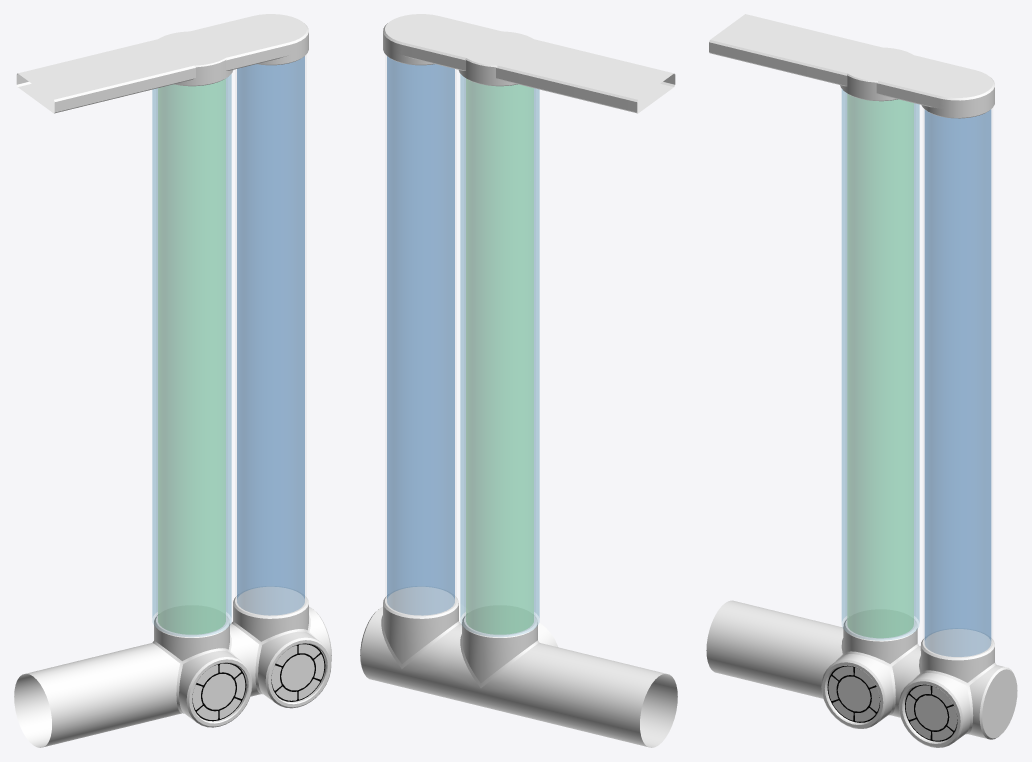
The model's file is Resources.glb.
The picture shows the model from 3 angles, left to right: view 1: azimuth 30°, elevation 25°; view 2: azimuth 150°, elevation 25°; view 3: azimuth 330°, elevation 25°; orthographic projection. The views are drawn at different scales.
Parts seen in each view (by area): view 1: ShipResources Shield, ShipResources Mana, ShipResources Health, ShipResources Health Frame B, ShipResources Frame T, ShipResources Health Frame, ShipResources Mana LED, ShipResources Health LED; view 2: ShipResources Shield, ShipResources Mana, ShipResources Health, ShipResources Health Frame B, ShipResources Frame T, ShipResources Health Frame; view 3: ShipResources Shield, ShipResources Mana, ShipResources Health, ShipResources Health Frame B, ShipResources Frame T, ShipResources Health LED, ShipResources Mana LED, ShipResources Health Frame, ShipResources Mana Frame.
Part boxes in pixels (left/top/right/bottom): ShipResources Shield: left=152, top=74, right=231, bottom=636; ShipResources Mana: left=237, top=56, right=304, bottom=615; ShipResources Health: left=158, top=79, right=225, bottom=633; ShipResources Health Frame B: left=14, top=586, right=331, bottom=747; ShipResources Frame T: left=16, top=14, right=308, bottom=113; ShipResources Health Frame: left=152, top=31, right=233, bottom=86; ShipResources Mana LED: left=271, top=644, right=324, bottom=700; ShipResources Health LED: left=192, top=663, right=245, bottom=719; ShipResources Shield: left=460, top=74, right=539, bottom=636; ShipResources Mana: left=387, top=56, right=454, bottom=615; ShipResources Health: left=466, top=79, right=533, bottom=633; ShipResources Health Frame B: left=360, top=586, right=677, bottom=747; ShipResources Frame T: left=383, top=14, right=675, bottom=113; ShipResources Health Frame: left=458, top=31, right=540, bottom=86; ShipResources Shield: left=842, top=89, right=919, bottom=639; ShipResources Mana: left=925, top=110, right=990, bottom=656; ShipResources Health: left=848, top=95, right=913, bottom=637; ShipResources Health Frame B: left=706, top=600, right=1017, bottom=747; ShipResources Frame T: left=709, top=14, right=994, bottom=110; ShipResources Health LED: left=828, top=666, right=879, bottom=721; ShipResources Mana LED: left=905, top=685, right=957, bottom=740; ShipResources Health Frame: left=840, top=47, right=919, bottom=101; ShipResources Mana Frame: left=921, top=93, right=994, bottom=118.
Bounding box in the file's own units: 0.8525 × 1.91 × 0.26.
Materials: 7 (1 with a texture image).
